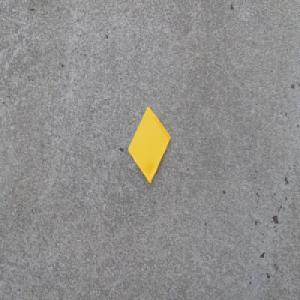PlasticPart: (128, 105, 171, 186)
